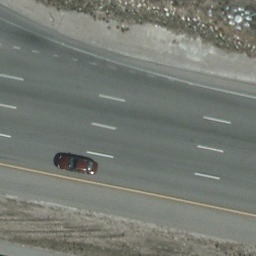car: (53, 149, 99, 175)
